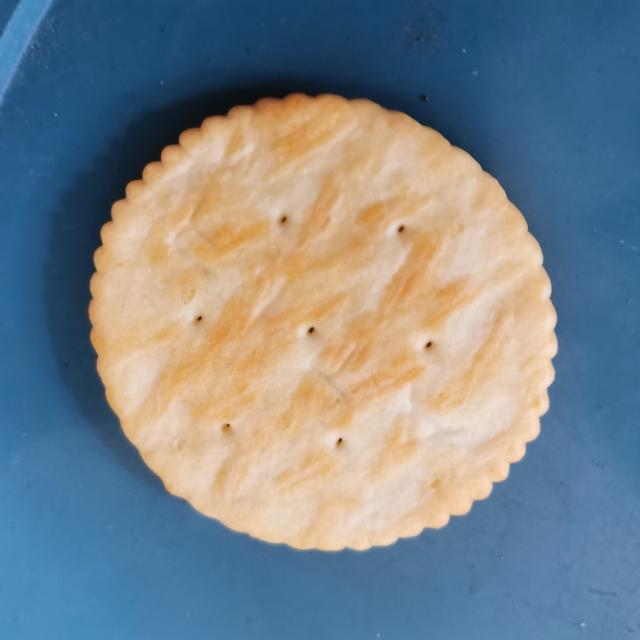Intact: (71, 78, 570, 565)
